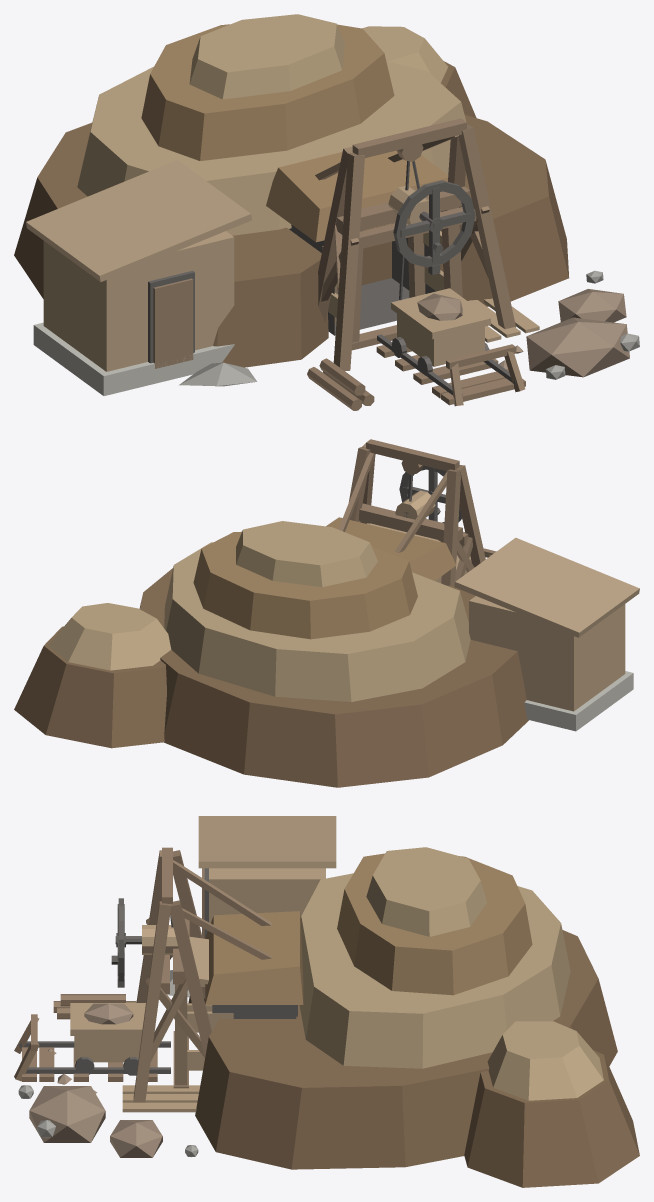
File: era1-mine-qx7mMvjw.glb
The picture shows the model from 3 angles, top to bottom: view 1: azimuth 30°, elevation 25°; view 2: azimuth 150°, elevation 25°; view 3: azimuth 270°, elevation 25°; orthographic projection. The views are drawn at different scales.
Visible parts, largest first — view 1: Mine_RockBase, Mine_RockTop, Mine_RockMid, Mine_Shed, Mine_ShedRoof, Mine_RockCap, Mine_RockBrow, Mine_OrePile1, Mine_ShedFooting, Mine_WinchWheel, Mine_HeadLegFL, Mine_HeadLegFR (+25 smaller); view 2: Mine_RockBase, Mine_RockMid, Mine_RockTop, Mine_CragBase, Mine_Shed, Mine_ShedRoof, Mine_RockCap, Mine_CragTop, Mine_RockBrow, Mine_ShedFooting, Mine_PortalLintel, Mine_HeadLegBL (+7 smaller); view 3: Mine_RockBase, Mine_RockMid, Mine_CragBase, Mine_RockTop, Mine_RockCap, Mine_RockBrow, Mine_ShedRoof, Mine_CragTop, Mine_Shed, Mine_OrePile1, Mine_HeadLegFR, Mine_HeadLegBR (+21 smaller).
Boxes of the visible parts, x1,y1,x2,y2 form: Mine_RockBase: (14,115,569,367); Mine_RockTop: (141,24,394,160); Mine_RockMid: (77,61,466,235); Mine_Shed: (43,231,234,371); Mine_ShedRoof: (26,160,251,282); Mine_RockCap: (189,14,344,99); Mine_RockBrow: (266,150,448,242); Mine_OrePile1: (526,317,629,377); Mine_ShedFooting: (33,322,234,395); Mine_WinchWheel: (393,180,475,274); Mine_HeadLegFL: (333,153,364,370); Mine_HeadLegFR: (458,124,515,329); Mine_RockBase: (139,568,528,787); Mine_RockMid: (164,542,470,701); Mine_RockTop: (193,531,417,639); Mine_CragBase: (14,626,166,748); Mine_Shed: (469,596,625,711); Mine_ShedRoof: (454,537,639,637); Mine_RockCap: (236,521,377,587); Mine_CragTop: (48,603,171,670); Mine_RockBrow: (326,517,456,580); Mine_ShedFooting: (524,671,633,731); Mine_PortalLintel: (358,503,462,541); Mine_HeadLegBL: (441,469,460,585); Mine_RockBase: (188,930,617,1169); Mine_RockMid: (299,873,570,1068); Mine_CragBase: (464,1050,639,1187); Mine_RockTop: (337,853,532,995); Mine_RockCap: (366,847,487,936); Mine_RockBrow: (205,911,303,1004); Mine_ShedRoof: (198,816,336,868); Mine_CragTop: (487,1021,603,1100); Mine_Shed: (209,868,325,922); Mine_OrePile1: (29,1086,105,1142); Mine_HeadLegFR: (133,901,171,1102); Mine_HeadLegBR: (170,900,211,1057).
Size of the model in its own units: 8.74 by 3.41 by 9.08.
